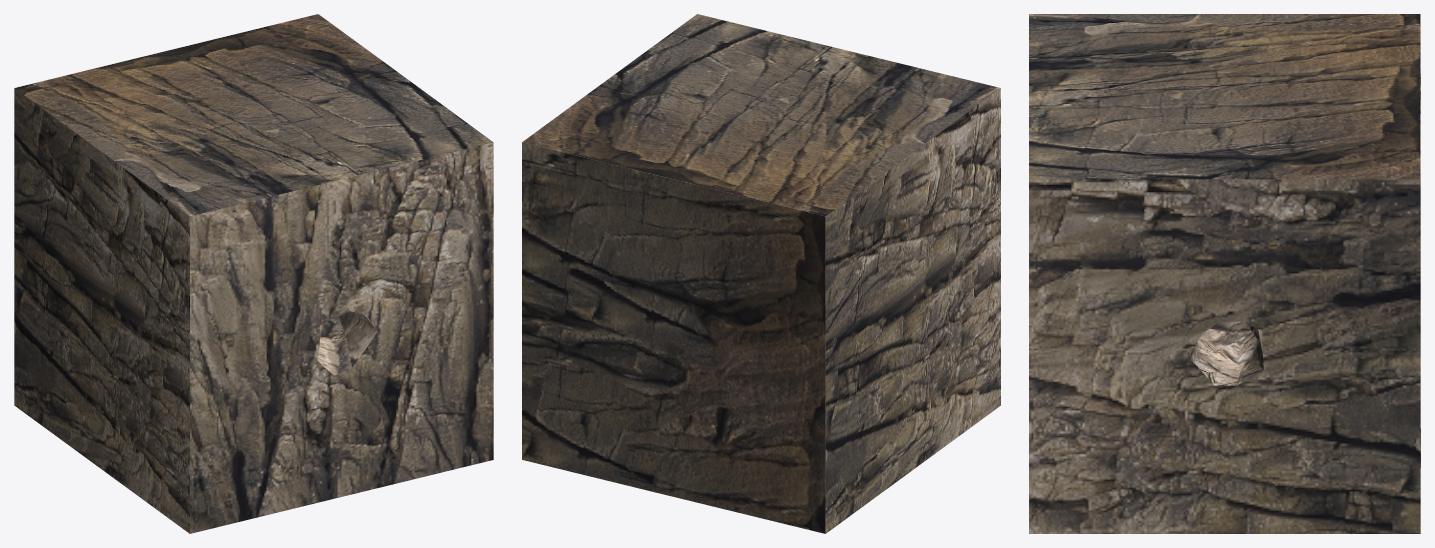
Rendered from tunnel_block_2_.obj.
3 renders of one model, left to right at view 1: azimuth 30°, elevation 25°; view 2: azimuth 150°, elevation 25°; view 3: azimuth 270°, elevation 25°, orthographic. The views are drawn at different scales.
Visible parts, largest first — view 1: Box005; view 2: Box005; view 3: Box005.
Part boxes in pixels (x1,y1,x2,y2): Box005: [14, 14, 493, 533]; Box005: [522, 14, 1000, 533]; Box005: [1029, 14, 1420, 533].
Bounding box in the file's own units: 100 × 100 × 100.
